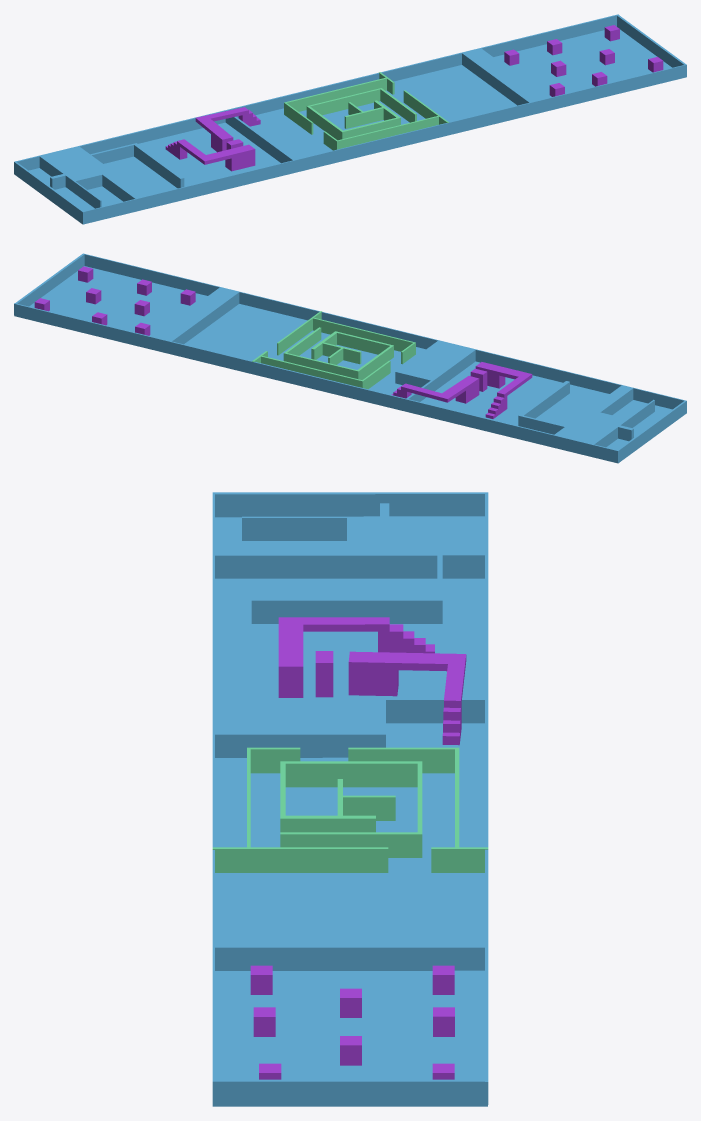
The model's file is labyrinthObject.fbx.
3 renders of one model, top to bottom at view 1: azimuth 30°, elevation 25°; view 2: azimuth 150°, elevation 25°; view 3: azimuth 270°, elevation 25°, orthographic. The views are drawn at different scales.
Parts seen in each view (by area): view 1: Cube; view 2: Cube; view 3: Cube.
Boxes of the visible parts, box(x1,y1,x2,y2) form: Cube: box(14, 14, 686, 224); Cube: box(14, 253, 686, 463); Cube: box(212, 492, 488, 1106).
Size of the model in its own units: 35506 by 1013 by 7012.
